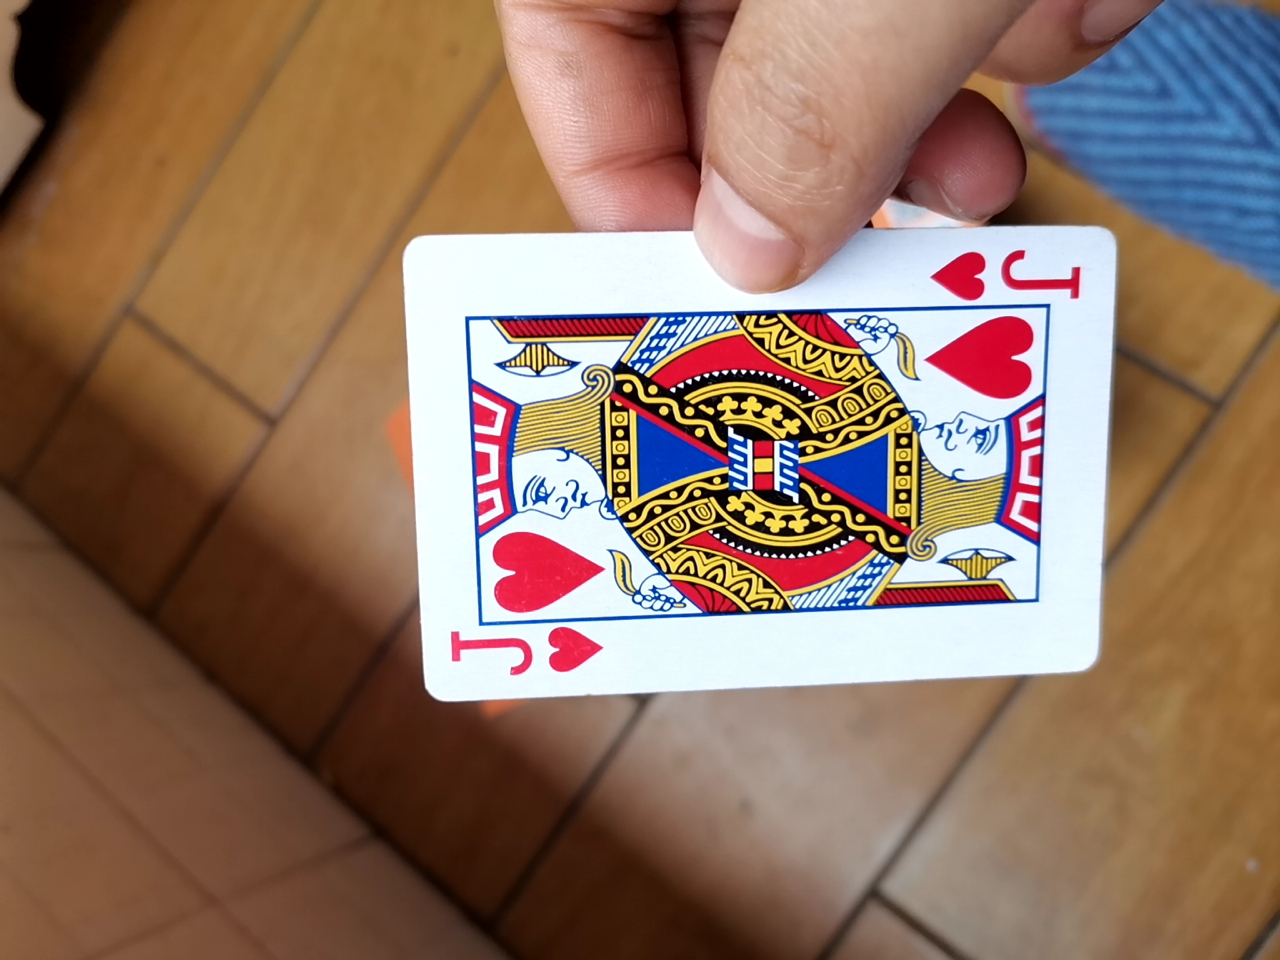hx j: (371, 217, 1119, 714)
